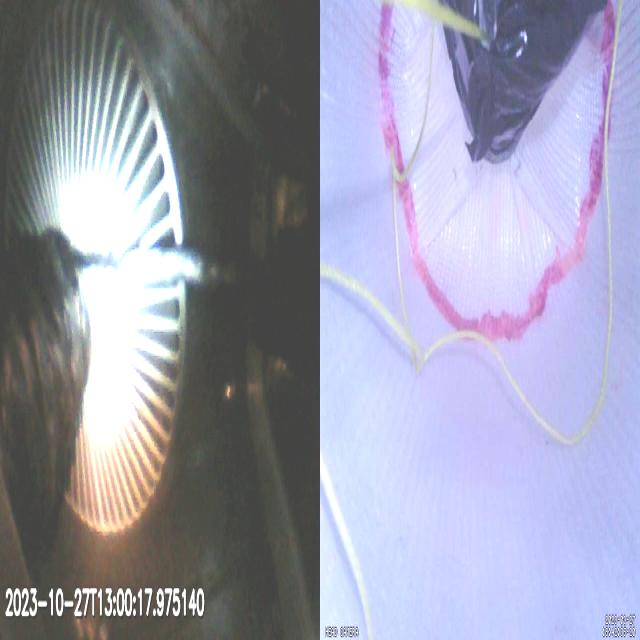red-circle: (377, 0, 617, 341)
